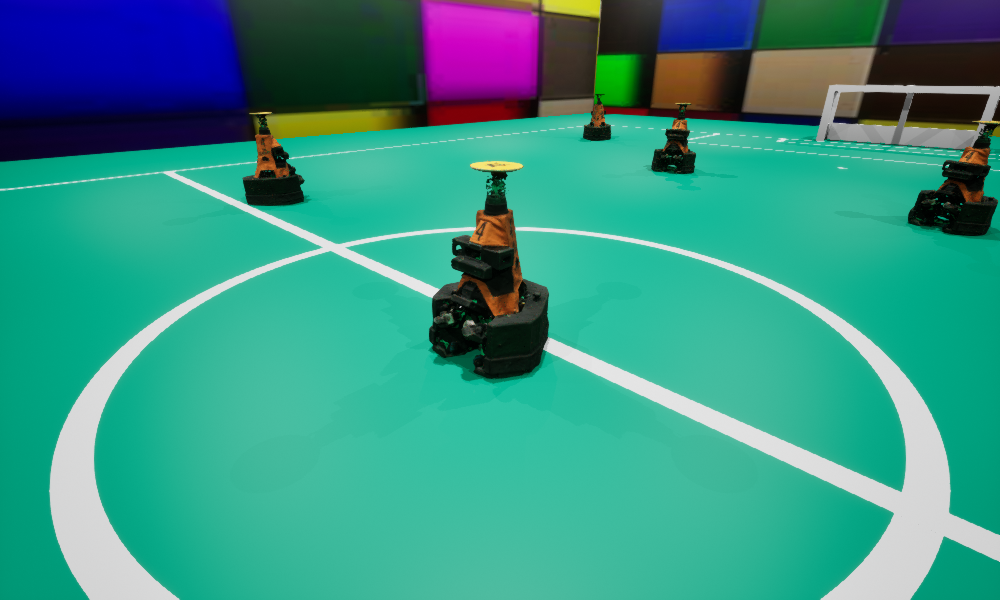0 orange robot TechUnited: (429, 161, 548, 377), (908, 121, 999, 235), (242, 112, 304, 205), (651, 103, 695, 172), (583, 94, 610, 140)
